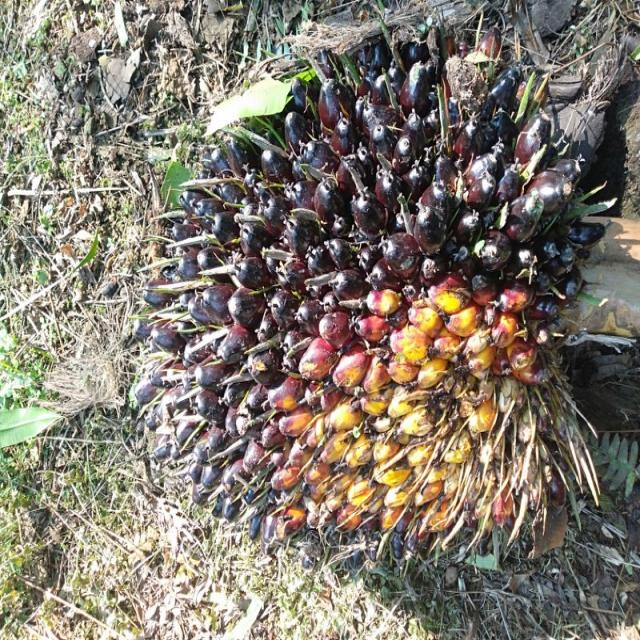fraksi 00: (117, 20, 617, 572)
